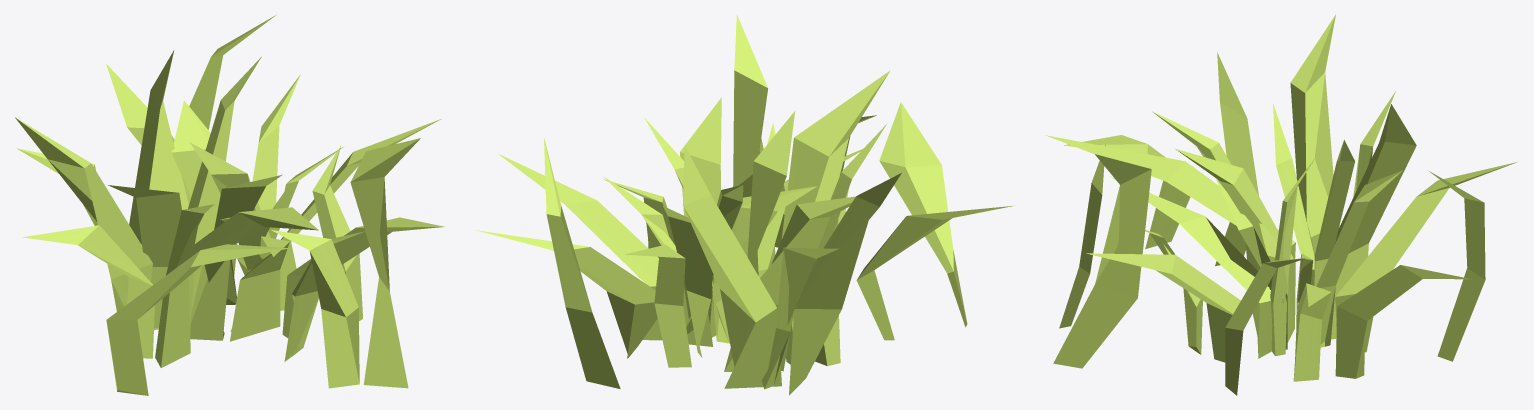
The model's file is grass1.fbx.
3 renders of one model, left to right at view 1: azimuth 30°, elevation 25°; view 2: azimuth 150°, elevation 25°; view 3: azimuth 270°, elevation 25°, orthographic.
Visible parts, largest first — view 1: Cone.005; view 2: Cone.005; view 3: Cone.005.
Part boxes in pixels (x1=…): Cone.005: x1=15, y1=15, x2=444, y2=395; Cone.005: x1=476, y1=15, x2=1014, y2=395; Cone.005: x1=1046, y1=14, x2=1518, y2=395.
Size of the model in its own units: 102 by 51.95 by 90.68.
